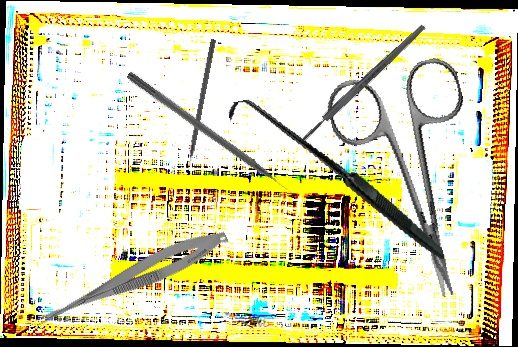Hook Surgical: (226, 66, 445, 297), (182, 38, 217, 175)
Iris Scissors: (322, 53, 509, 315)
Micro Scissor: (29, 221, 232, 340)
Pusher: (124, 70, 301, 203)
Scalpel Handle: (298, 22, 429, 144)
